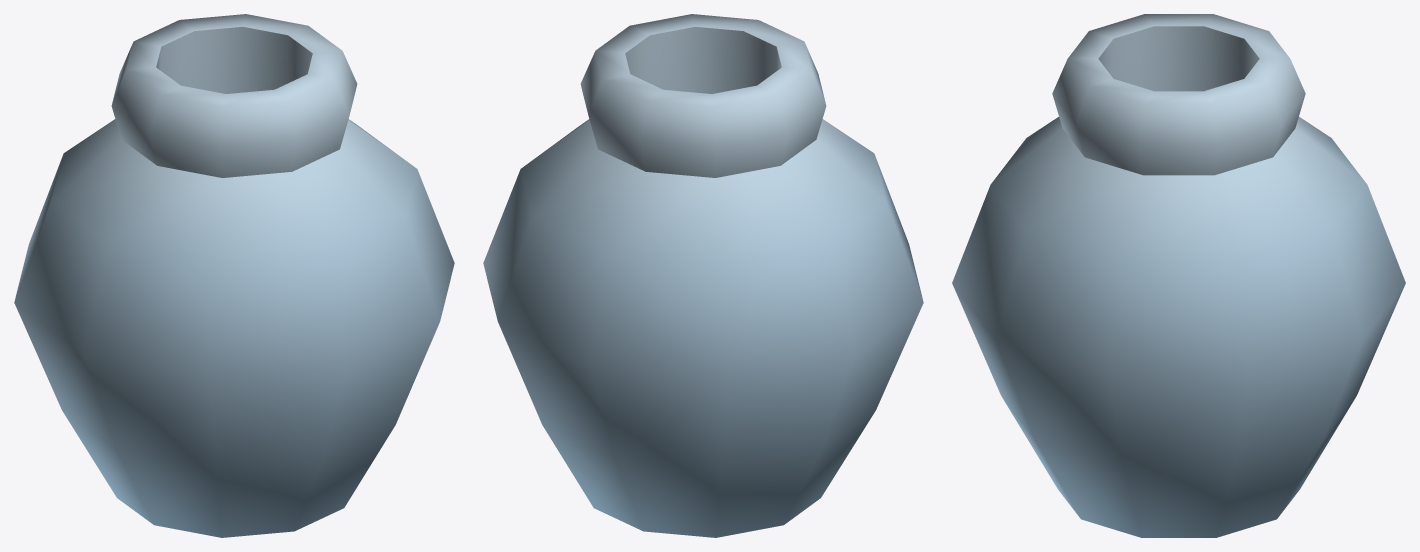
The model's file is Bottle_A.fbx.
The picture shows the model from 3 angles, left to right: view 1: azimuth 30°, elevation 25°; view 2: azimuth 150°, elevation 25°; view 3: azimuth 270°, elevation 25°; orthographic projection.
Parts seen in each view (by area): view 1: Bottle_A; view 2: Bottle_A; view 3: Bottle_A.
Boxes of the visible parts, x1,y1,x2,y2 form: Bottle_A: (14,14,454,537); Bottle_A: (483,14,923,537); Bottle_A: (952,14,1405,537).
Size of the model in its own units: 17.97 by 19.77 by 18.89.
